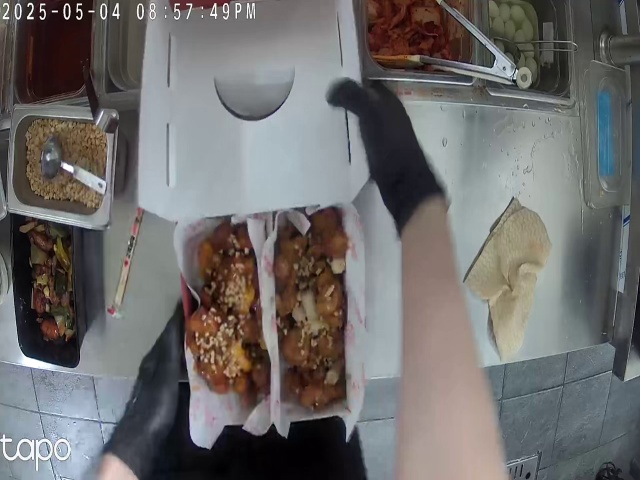delivery box: (150, 10, 375, 448)
food: (273, 225, 347, 414), (198, 223, 262, 387)
hand: (367, 68, 441, 248), (109, 300, 190, 462)
